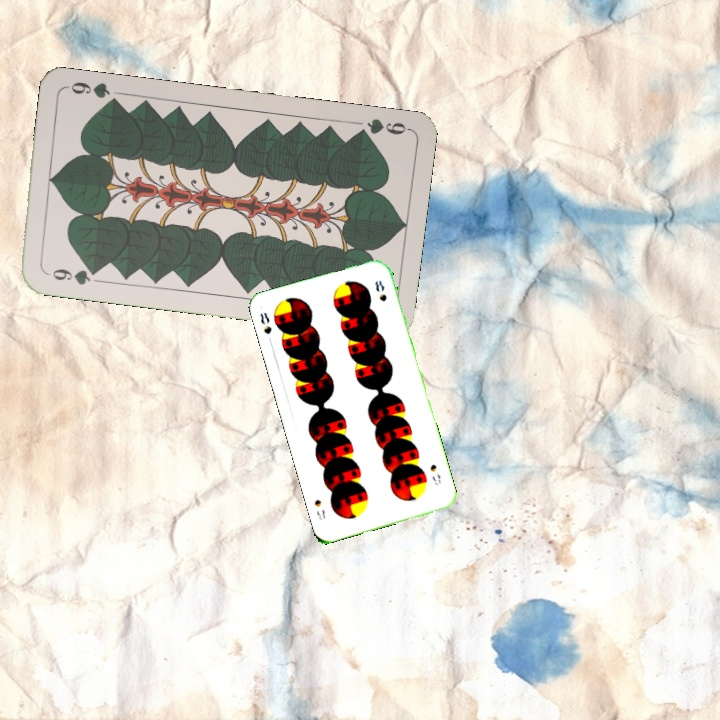G9: (351, 114, 411, 140), (41, 264, 101, 288)
S8: (256, 308, 275, 347), (426, 460, 444, 488)
